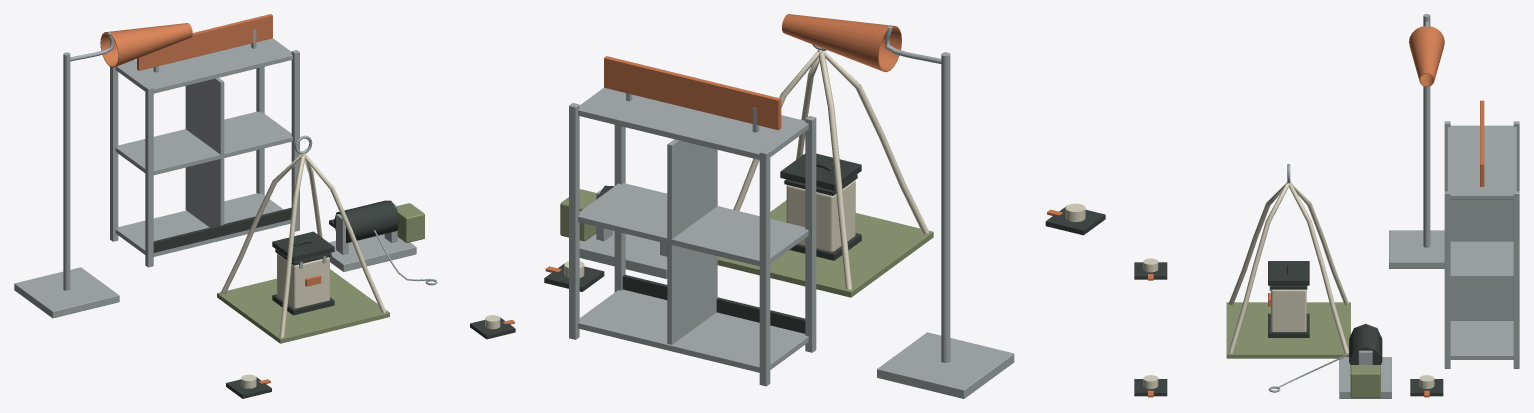
The model's file is extraction-routes-and-objectives-cargo-extraction-pad-7dbaea03__22186.glb.
3 renders of one model, left to right at view 1: azimuth 30°, elevation 25°; view 2: azimuth 150°, elevation 25°; view 3: azimuth 270°, elevation 25°, orthographic. The views are drawn at different scales.
Visible parts, largest first — view 1: 007-evacuation-supply-rack/0, 000-pickup-cargo-sling/0, 002-windsock-mast/0, 000-pickup-cargo-sling/1, 007-evacuation-supply-rack/1, 003-rescue-winch/0, 002-windsock-mast/1, 001-specimen-transport-case/0, 003-rescue-winch/1, 007-evacuation-supply-rack/2, 001-specimen-transport-case/3, 003-rescue-winch/2 (+2 smaller); view 2: 007-evacuation-supply-rack/0, 002-windsock-mast/0, 000-pickup-cargo-sling/0, 007-evacuation-supply-rack/1, 000-pickup-cargo-sling/1, 002-windsock-mast/1, 001-specimen-transport-case/0, 003-rescue-winch/0, 001-specimen-transport-case/3, 007-evacuation-supply-rack/2, 003-rescue-winch/2, 004-landing-zone-light/0 (+1 smaller); view 3: 007-evacuation-supply-rack/0, 000-pickup-cargo-sling/0, 002-windsock-mast/0, 000-pickup-cargo-sling/1, 002-windsock-mast/1, 001-specimen-transport-case/0, 001-specimen-transport-case/3, 003-rescue-winch/0, 003-rescue-winch/1, 003-rescue-winch/2, 006-landing-zone-light/0, 005-landing-zone-light/0 (+2 smaller).
Part boxes in pixels (left/top/right/bottom): 007-evacuation-supply-rack/0: left=110, top=30, right=299, bottom=267; 000-pickup-cargo-sling/0: left=217, top=269, right=389, bottom=343; 002-windsock-mast/0: left=14, top=32, right=119, bottom=318; 000-pickup-cargo-sling/1: left=220, top=153, right=386, bottom=337; 007-evacuation-supply-rack/1: left=137, top=14, right=272, bottom=70; 003-rescue-winch/0: left=329, top=203, right=437, bottom=285; 002-windsock-mast/1: left=100, top=23, right=192, bottom=67; 001-specimen-transport-case/0: left=277, top=254, right=329, bottom=308; 003-rescue-winch/1: left=334, top=200, right=399, bottom=242; 007-evacuation-supply-rack/2: left=153, top=207, right=291, bottom=252; 001-specimen-transport-case/3: left=272, top=231, right=334, bottom=315; 003-rescue-winch/2: left=397, top=203, right=424, bottom=242; 007-evacuation-supply-rack/0: left=569, top=88, right=816, bottom=386; 002-windsock-mast/0: left=877, top=26, right=1014, bottom=398; 000-pickup-cargo-sling/0: left=717, top=200, right=933, bottom=297; 007-evacuation-supply-rack/1: left=604, top=56, right=781, bottom=130; 000-pickup-cargo-sling/1: left=717, top=49, right=928, bottom=289; 002-windsock-mast/1: left=782, top=14, right=901, bottom=72; 001-specimen-transport-case/0: left=786, top=180, right=855, bottom=251; 003-rescue-winch/0: left=579, top=189, right=667, bottom=278; 001-specimen-transport-case/3: left=780, top=153, right=861, bottom=260; 007-evacuation-supply-rack/2: left=622, top=274, right=805, bottom=333; 003-rescue-winch/2: left=560, top=189, right=596, bottom=241; 004-landing-zone-light/0: left=1045, top=206, right=1105, bottom=235; 007-evacuation-supply-rack/0: left=1444, top=121, right=1519, bottom=368; 000-pickup-cargo-sling/0: left=1226, top=302, right=1350, bottom=358; 002-windsock-mast/0: left=1389, top=14, right=1444, bottom=268; 000-pickup-cargo-sling/1: left=1228, top=181, right=1348, bottom=353; 002-windsock-mast/1: left=1409, top=26, right=1444, bottom=86; 001-specimen-transport-case/0: left=1271, top=289, right=1306, bottom=331; 001-specimen-transport-case/3: left=1268, top=261, right=1309, bottom=337; 003-rescue-winch/0: left=1268, top=350, right=1391, bottom=398; 003-rescue-winch/1: left=1349, top=323, right=1382, bottom=365; 003-rescue-winch/2: left=1350, top=365, right=1380, bottom=397; 006-landing-zone-light/0: left=1410, top=379, right=1443, bottom=396; 005-landing-zone-light/0: left=1134, top=379, right=1167, bottom=396.
Bounding box in the file's own units: 2.9 × 1.98 × 2.79.
